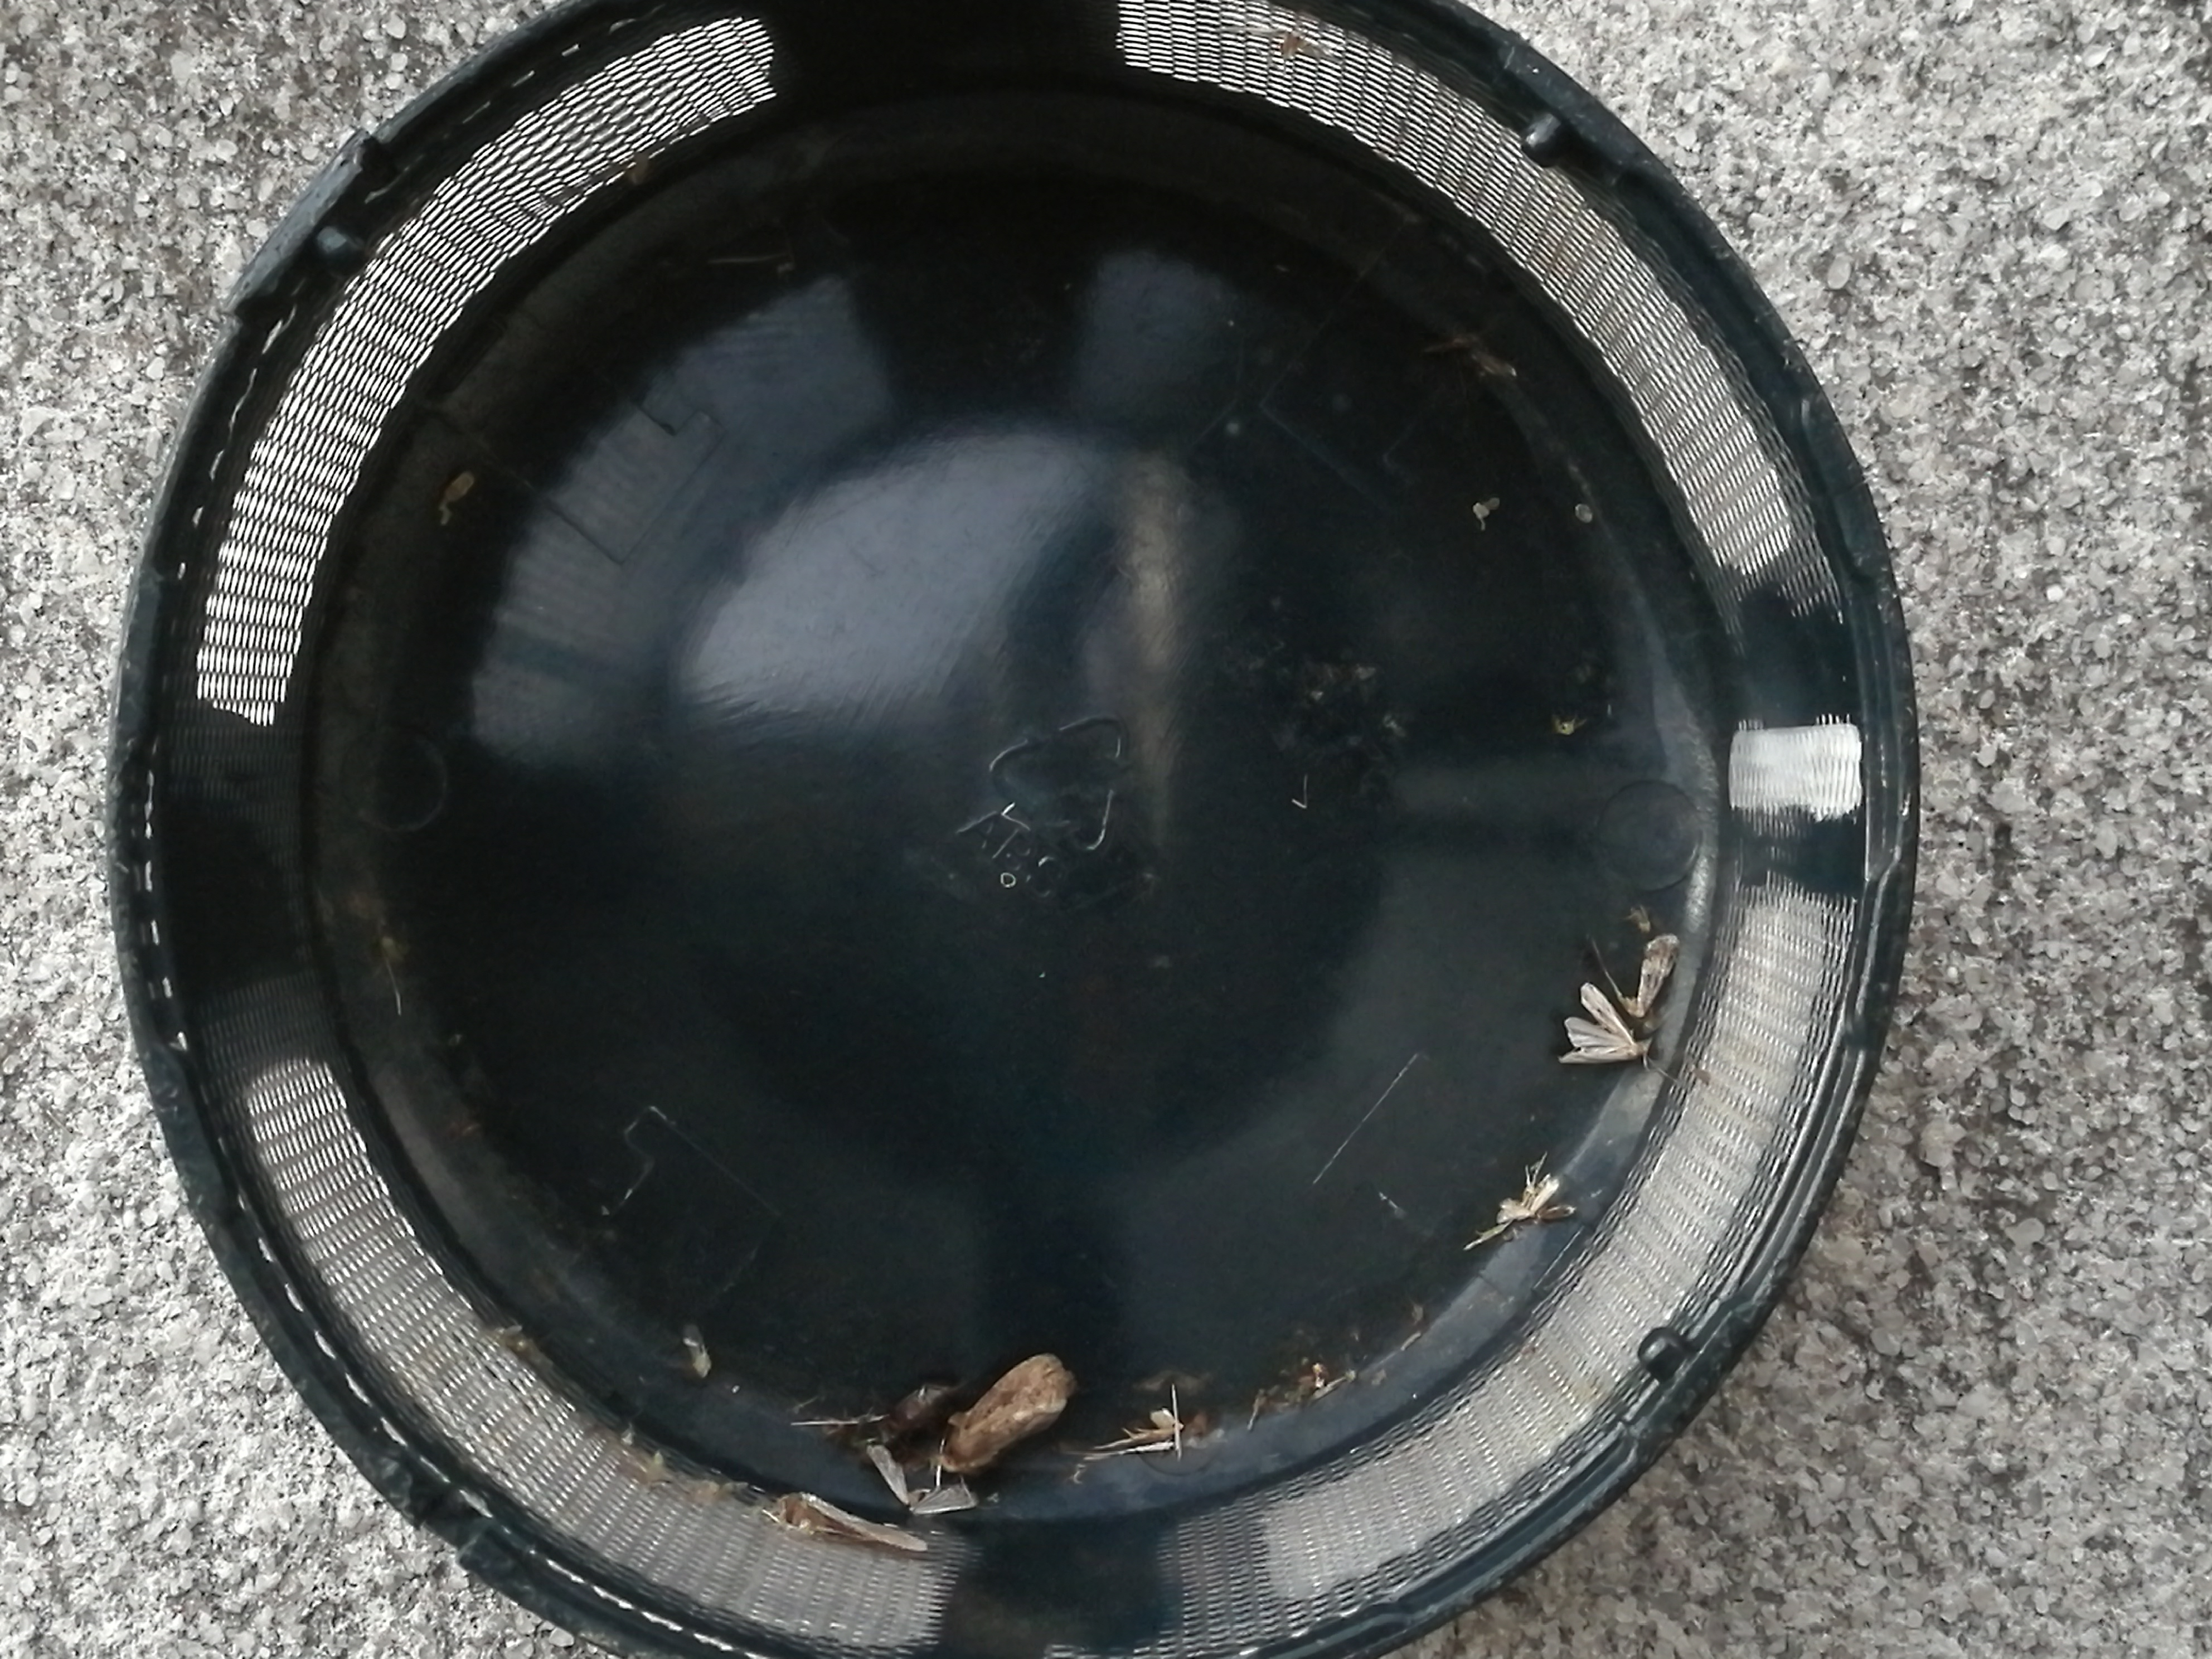mosquito: (784, 1493, 932, 1554)
moth: (937, 1354, 1071, 1473), (1557, 979, 1649, 1060)
